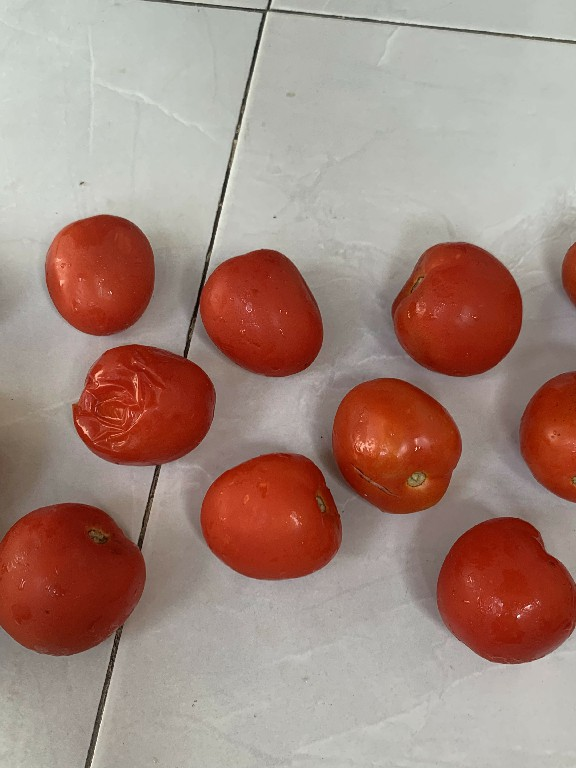NG: (70, 342, 221, 470), (330, 375, 463, 516)
OK: (0, 499, 156, 658), (433, 508, 576, 670), (382, 232, 532, 377), (194, 244, 326, 390), (196, 451, 344, 581), (36, 208, 164, 342), (518, 369, 575, 504)
